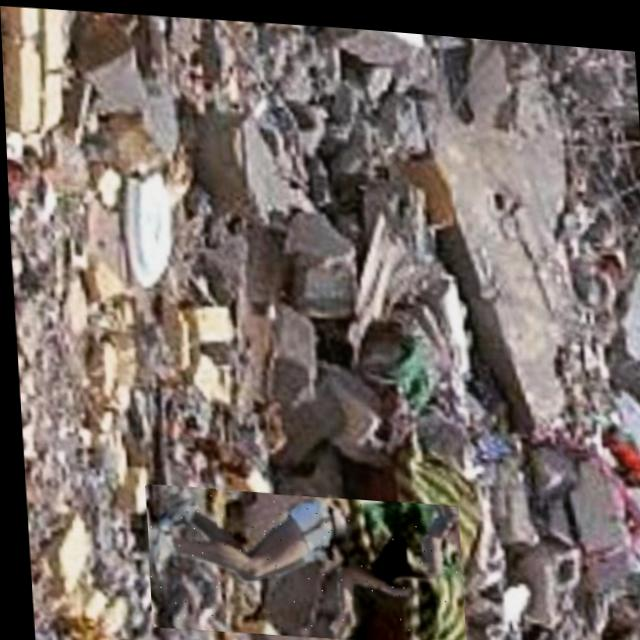Person in Rubble: (139, 477, 460, 640)
